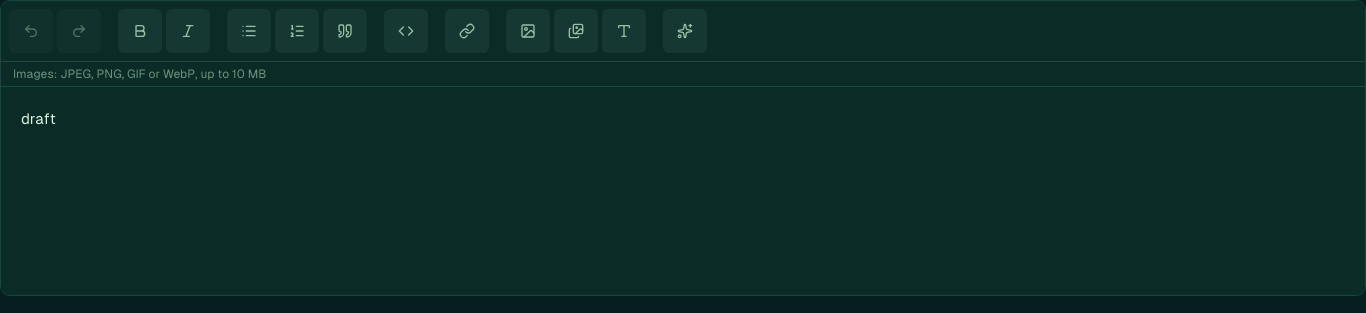
Test: TipTapEditor › splits a multi-paragraph rewrite into separate paragraphs (M14)
Expected: the field labelled "draft" is shown, [21,110,56,127]
Click the button titled "improve draft with ai" at (685, 31), box [663,9,707,53]
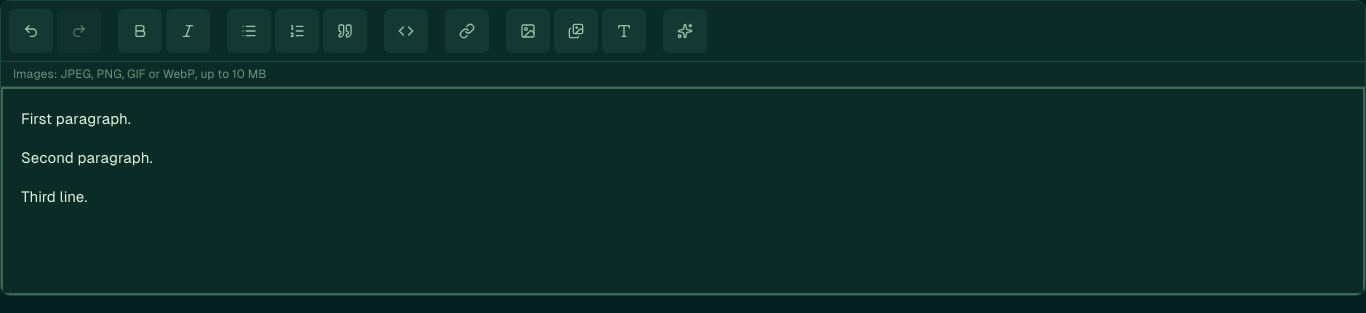
Expected: the number of text boxes is 3, [21,110,131,127]; [21,149,153,166]; [21,188,87,204]
Expected: the field labelled "First paragraph. Second paragraph. Third line." is shown
